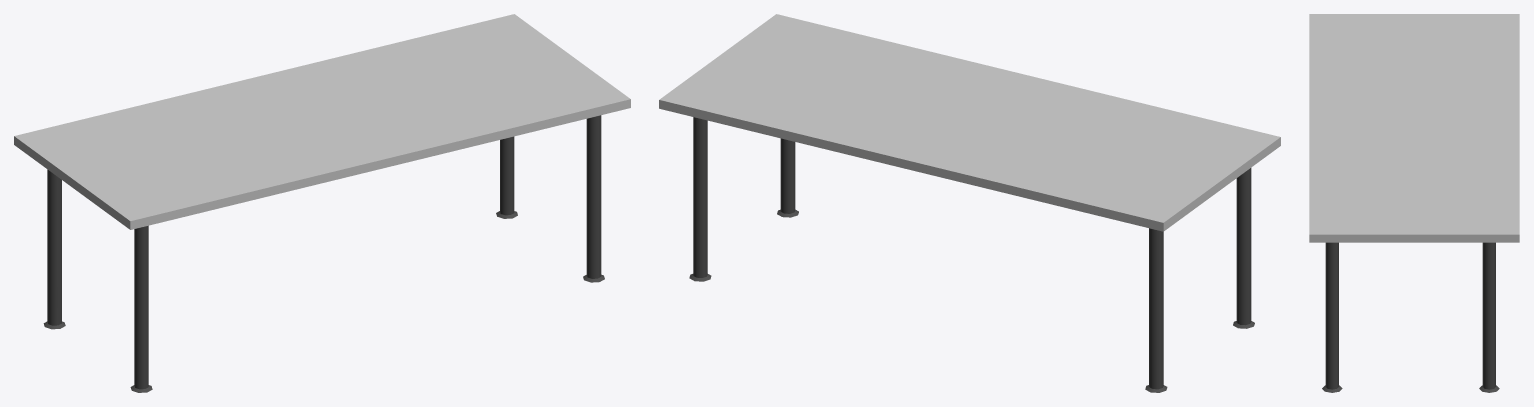
Rendered from Mesa.fbx.
3 views of the same model, side by side, from view 1: azimuth 30°, elevation 25°; view 2: azimuth 150°, elevation 25°; view 3: azimuth 270°, elevation 25° (orthographic). The views are drawn at different scales.
Parts seen in each view (by area): view 1: Mesa; view 2: Mesa; view 3: Mesa.
Part boxes in pixels (bbox=[...]): Mesa: bbox=[14, 14, 630, 392]; Mesa: bbox=[659, 14, 1280, 392]; Mesa: bbox=[1309, 14, 1519, 392].
Size of the model in its own units: 177 by 61.56 by 71.29.
